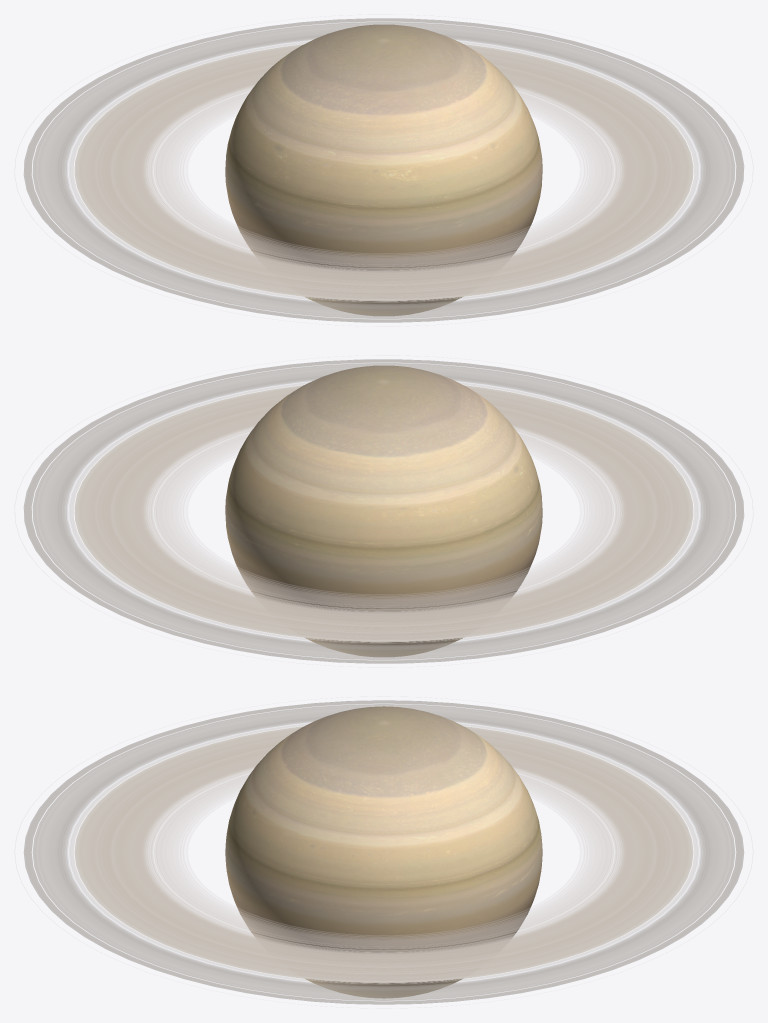
The model's file is saturn.glb.
3 renders of one model, top to bottom at view 1: azimuth 30°, elevation 25°; view 2: azimuth 150°, elevation 25°; view 3: azimuth 270°, elevation 25°, orthographic.
Parts seen in each view (by area): view 1: RingsTop, Saturn.001; view 2: RingsTop, Saturn.001; view 3: RingsTop, Saturn.001.
Boxes of the visible parts, x1,y1,x2,y2 form: RingsTop: (23, 18, 744, 322); Saturn.001: (225, 24, 542, 315); RingsTop: (23, 359, 744, 663); Saturn.001: (225, 365, 542, 656); RingsTop: (23, 700, 744, 1004); Saturn.001: (225, 706, 542, 998).
Bounding box in the file's own units: 2331 × 902 × 2331.
Materials: 2 (2 with a texture image).
